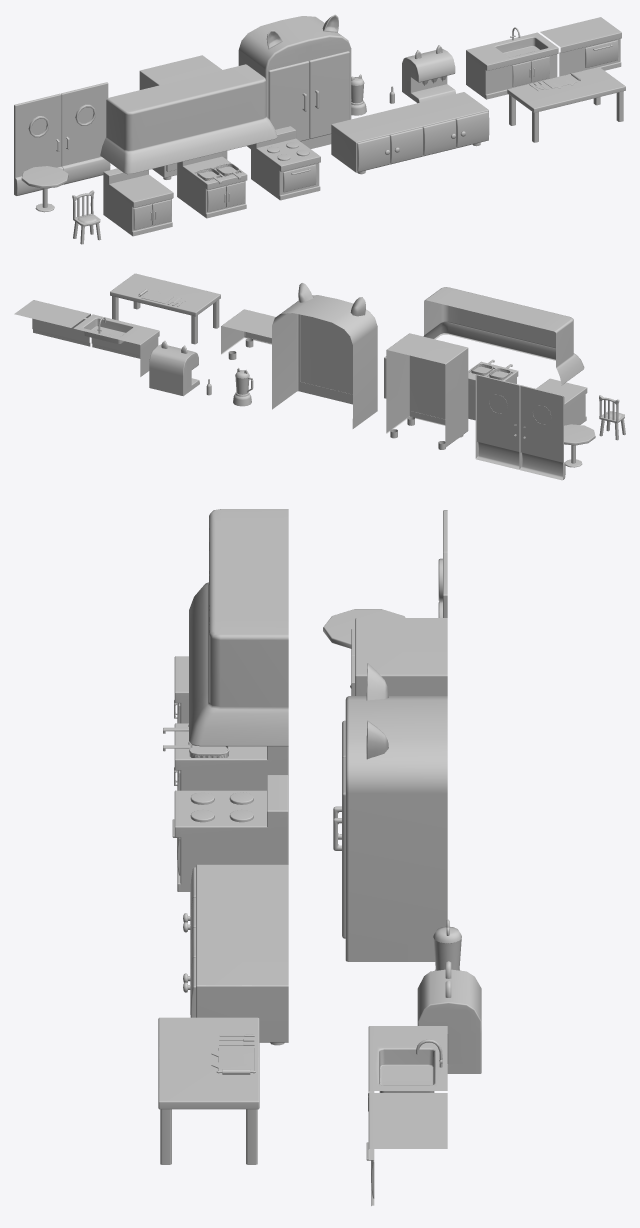
File: Kitchen_KIT_V2.fbx
The picture shows the model from 3 angles, top to bottom: view 1: azimuth 30°, elevation 25°; view 2: azimuth 150°, elevation 25°; view 3: azimuth 270°, elevation 25°; orthographic projection. The views are drawn at different scales.
Visible parts, largest first — view 1: KittchenHood, Closet, FreezerDoors, Fridge_Doors, CatFridge, WaterSInk, Table (×2), Grill, Oven, Fryers, Dishwasher, SodaDispener (+3 smaller); view 2: CatFridge, FreezerDoors, KittchenHood, Pantry, Table (×2), WaterSInk, SodaDispener, Dishwasher, Closet, Grill, Fryers, CatChair (+1 smaller); view 3: CatFridge, KittchenHood, Closet, Table (×2), Oven, Pantry, WaterSInk, Fryers, SodaDispener, Dishwasher, Fridge_Doors, CatBlender (+1 smaller).
Boxes of the visible parts, x1,y1,x2,y2 form: KittchenHood: [100, 64, 277, 174]; Closet: [331, 92, 489, 174]; FreezerDoors: [14, 82, 110, 195]; Fridge_Doors: [268, 51, 349, 141]; CatFridge: [238, 14, 351, 148]; WaterSInk: [466, 27, 558, 99]; Table (×2): [21, 67, 625, 212]; Grill: [103, 168, 173, 236]; Oven: [251, 126, 320, 200]; Fryers: [177, 152, 247, 218]; Dishwasher: [540, 17, 621, 76]; SodaDispener: [402, 45, 455, 103]; CatFridge: [272, 283, 377, 428]; FreezerDoors: [475, 374, 565, 480]; KittchenHood: [423, 287, 584, 385]; Pantry: [386, 333, 468, 449]; Table (×2): [110, 273, 595, 467]; WaterSInk: [73, 314, 159, 376]; SodaDispener: [149, 340, 199, 396]; Dishwasher: [14, 300, 90, 346]; Closet: [221, 309, 275, 359]; Grill: [536, 378, 587, 425]; Fryers: [468, 359, 518, 420]; CatChair: [599, 395, 625, 440]; CatFridge: [345, 663, 447, 961]; KittchenHood: [189, 509, 288, 746]; Closet: [183, 864, 288, 1045]; Table (×2): [158, 609, 405, 1164]; Oven: [172, 775, 288, 891]; Pantry: [355, 618, 447, 695]; WaterSInk: [368, 1026, 447, 1111]; Fryers: [163, 723, 288, 790]; SodaDispener: [417, 961, 481, 1073]; Dishwasher: [366, 1093, 447, 1205]; Fridge_Doors: [333, 720, 345, 938]; CatBlender: [433, 919, 461, 970].
Bounding box in the file's own units: 16.2 × 3.19 × 4.06.
